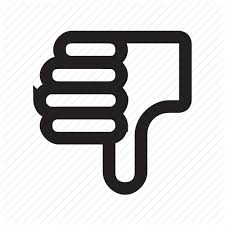thumbs_up: (6, 46, 108, 186)
